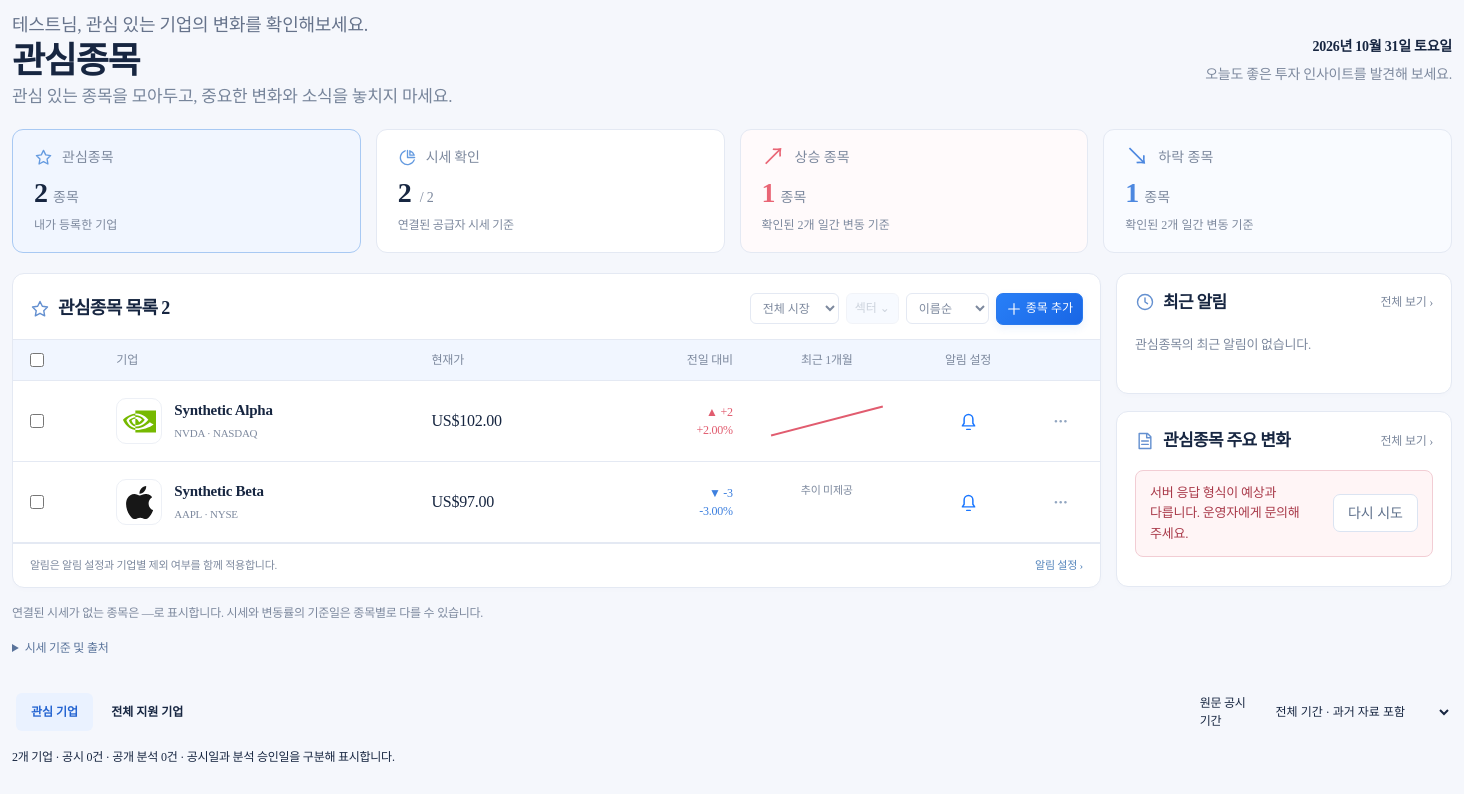
desktop watchlist persistence and quote truthfulness › retains the failed remainder after a partially successful bulk removal
Expected: the link "Synthetic Alpha NVDA · NASDAQ" is shown, [116,398,273,444]
What coordinates should you click on to do the following:
click the checkbox named "표시된 관심종목 전체 선택"
I would click on:
 (37, 360)
Its box is [30,353,44,367].
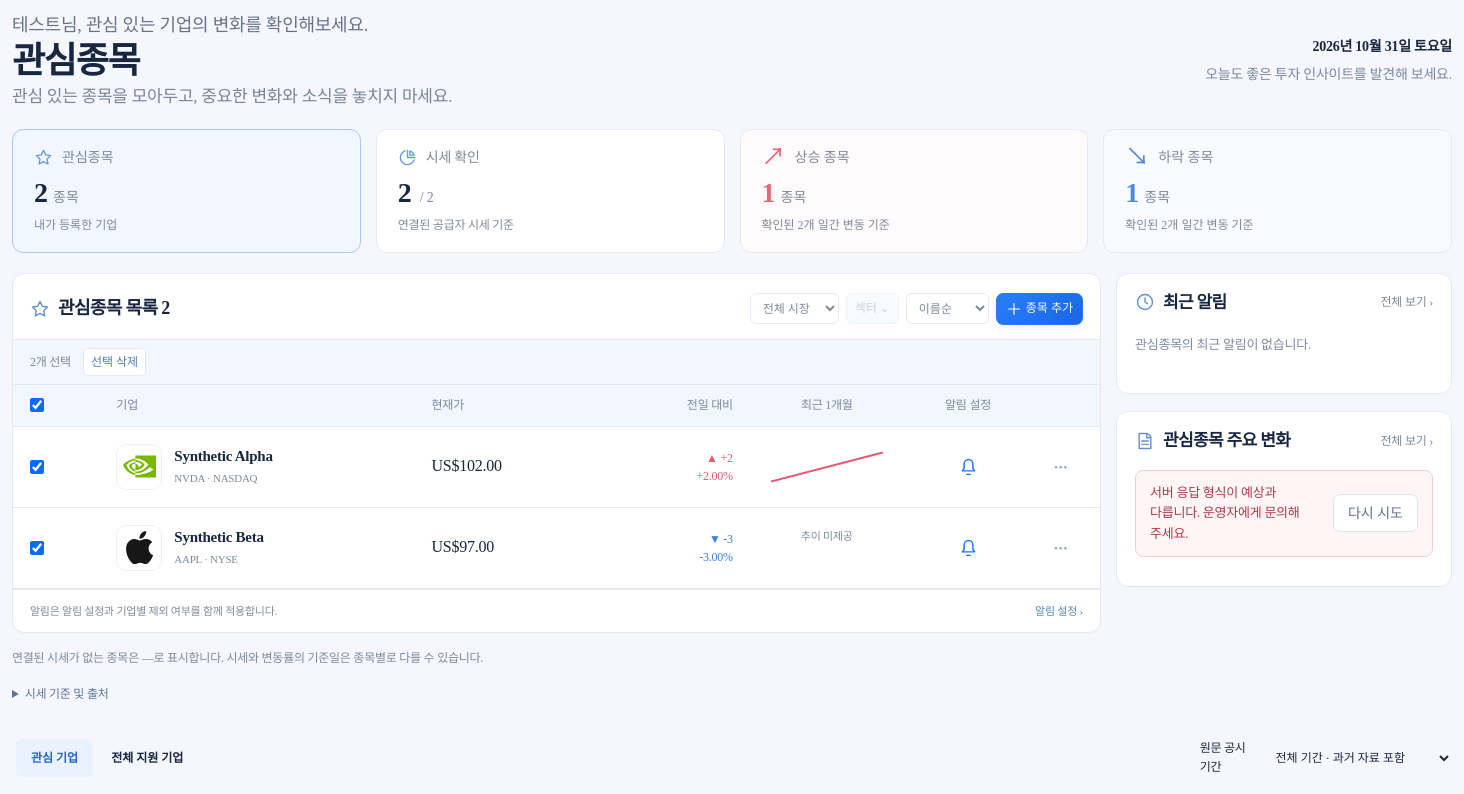
What coordinates should you click on to do the following:
click the button "선택 삭제"
I would click on:
 (114, 362)
Its box is [83,348,146,376].
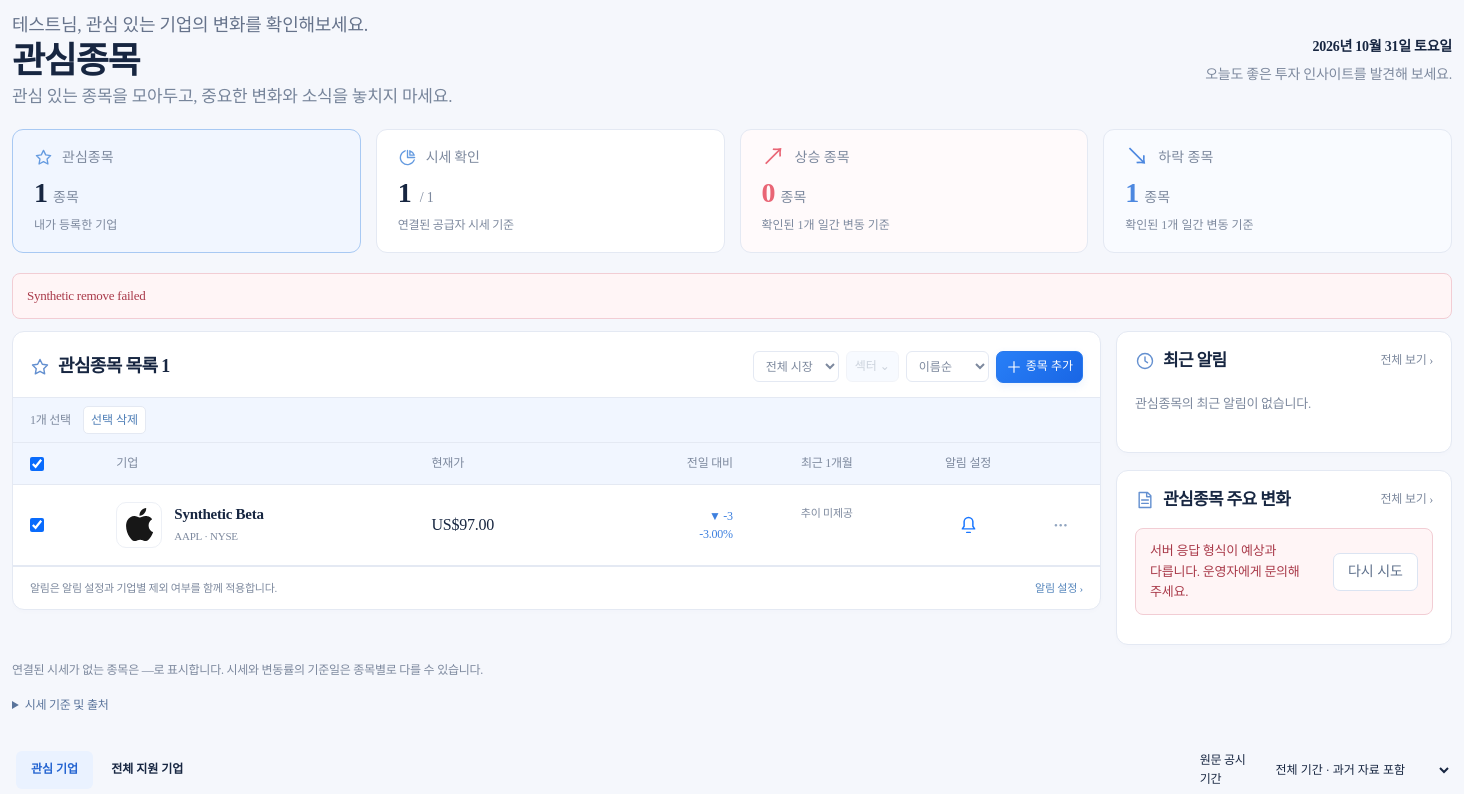
Expected: the checkbox named "Synthetic Beta 선택" is checked, [30,518,44,532]
Expected: the text "Synthetic remove failed" is shown, [12,273,1452,319]
Expected: the link "Synthetic Alpha NVDA · NASDAQ" is gone
What coordinates should you click on to do the following:
click the button "선택 삭제"
I would click on:
 (114, 420)
Its box is [83,406,146,434].
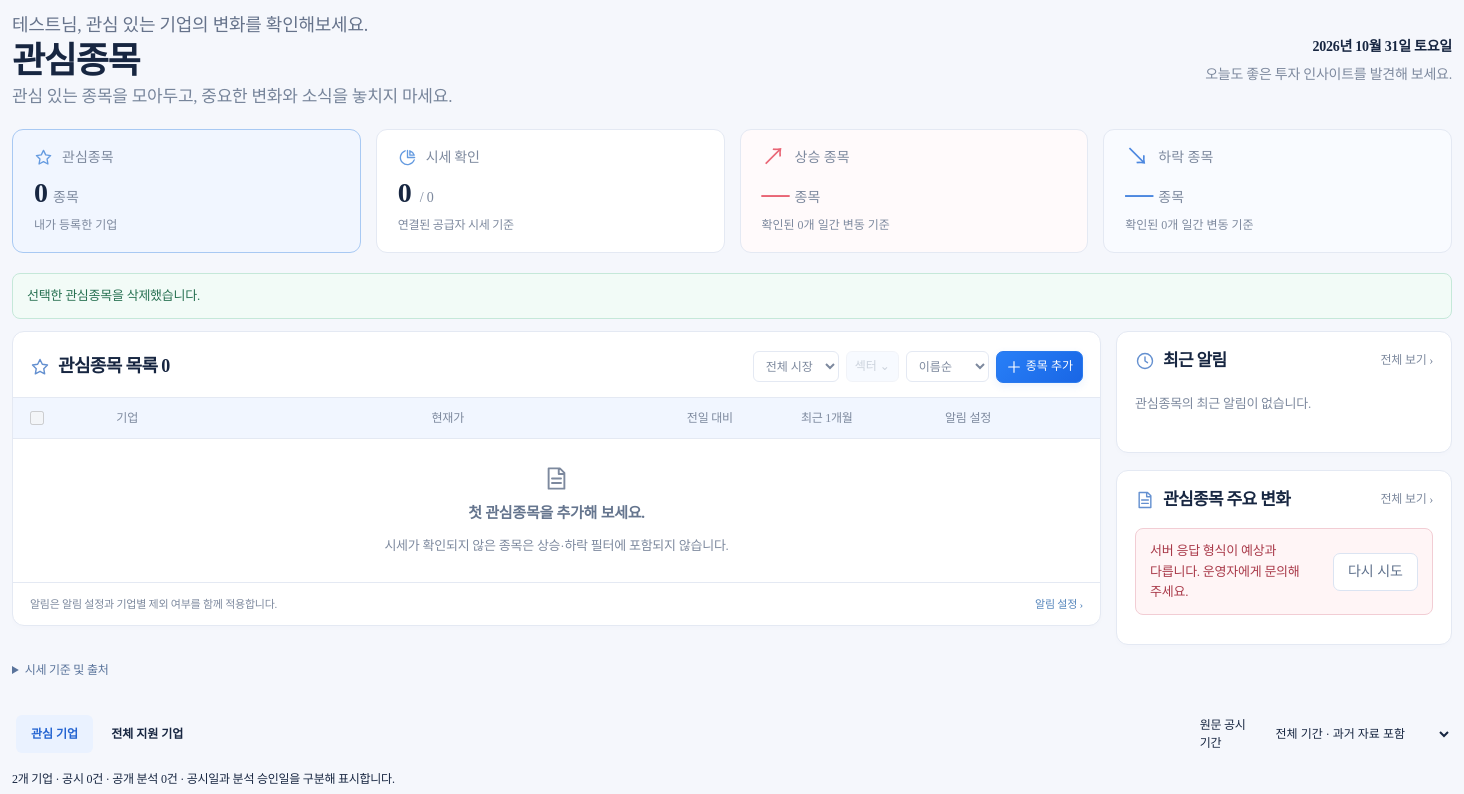
Expected: the text "첫 관심종목을 추가해 보세요." is shown, [468,502,645,526]
